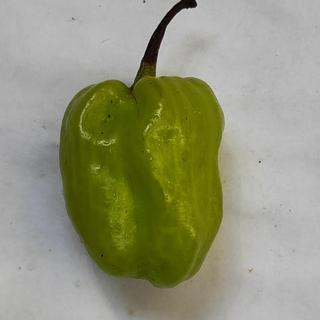Grade-A: (51, 69, 231, 292)
